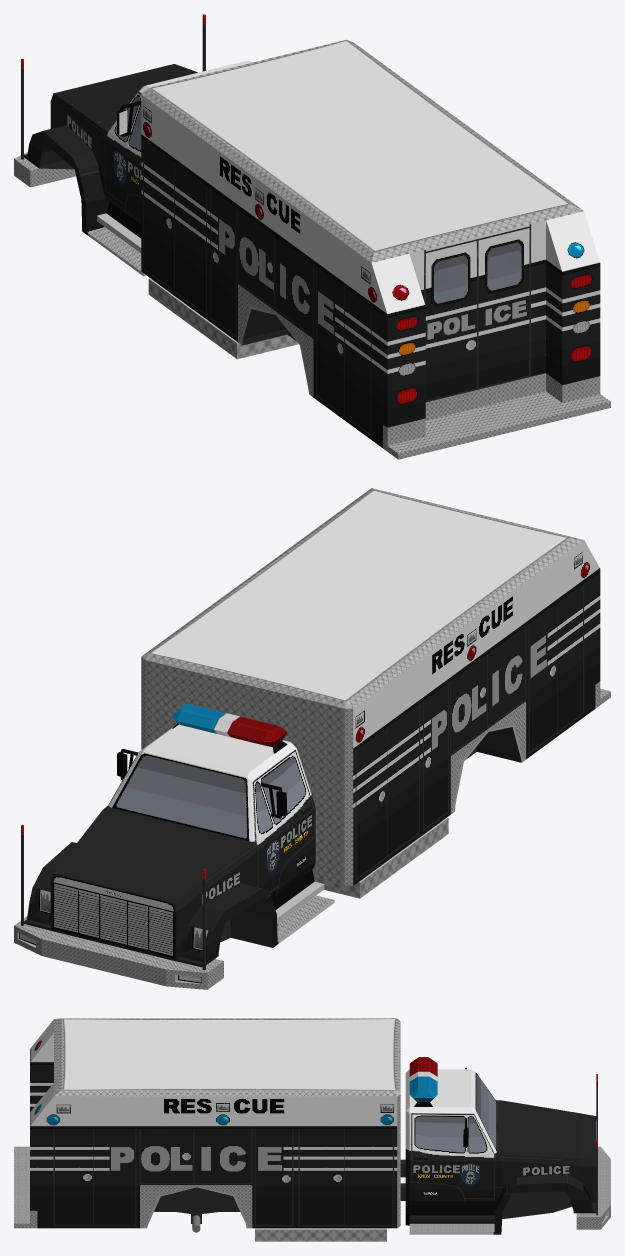
The model's file is frieghtlignerswat.fbx.
3 views of the same model, one above another, from view 1: azimuth 30°, elevation 25°; view 2: azimuth 150°, elevation 25°; view 3: azimuth 270°, elevation 25° (orthographic). The views are drawn at different scales.
Visible parts, largest first — view 1: 93FL70swat; view 2: 93FL70swat; view 3: 93FL70swat.
Part boxes in pixels (<box>): 93FL70swat: <box>14,14,610,459</box>; 93FL70swat: <box>14,488,610,989</box>; 93FL70swat: <box>14,1018,610,1241</box>.
Size of the model in its own units: 2.65 by 2.5 by 8.64.
